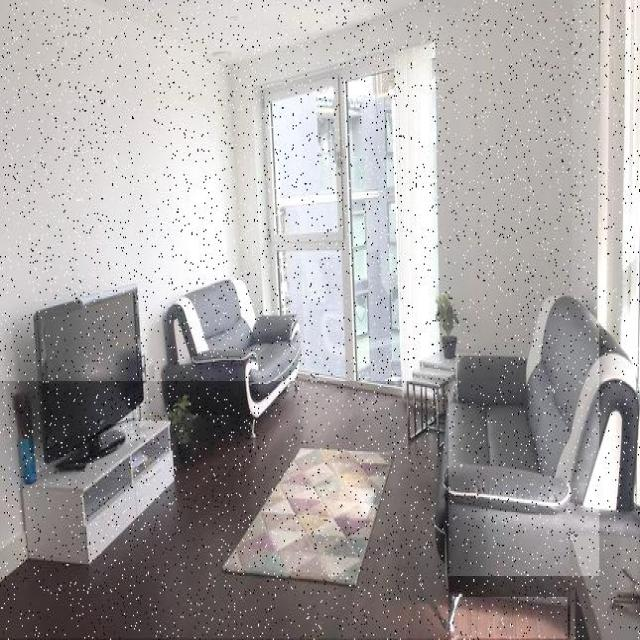Wall: (0, 0, 599, 576), (0, 382, 448, 639), (96, 1, 421, 64), (455, 598, 568, 639)
